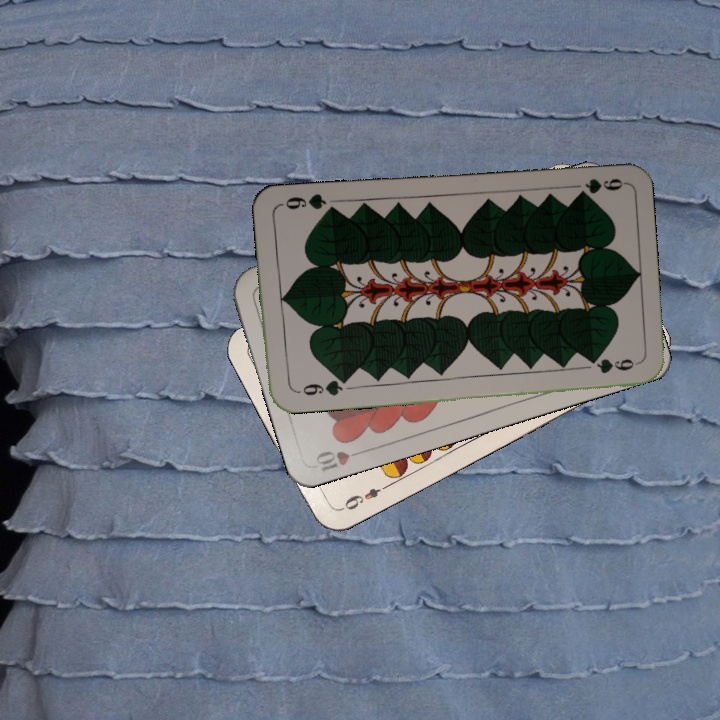E9: (336, 480, 391, 514)
G9: (291, 374, 349, 399), (573, 174, 626, 198)
H10: (311, 445, 369, 475)
